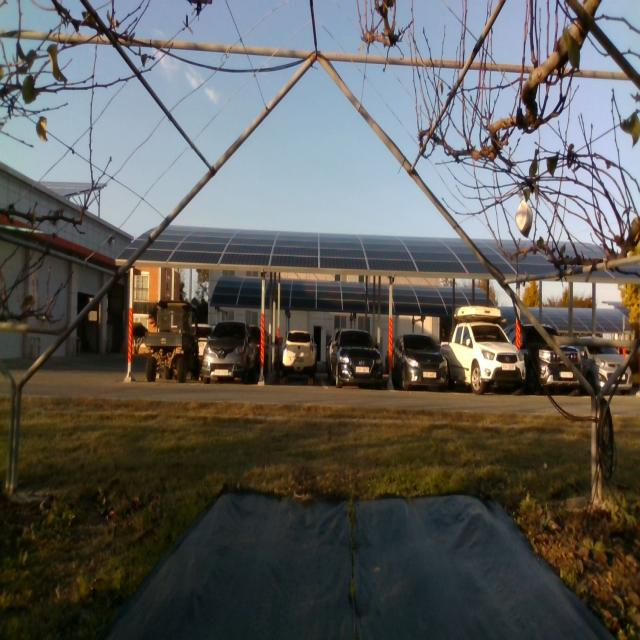pearbags: (515, 199, 533, 237)
